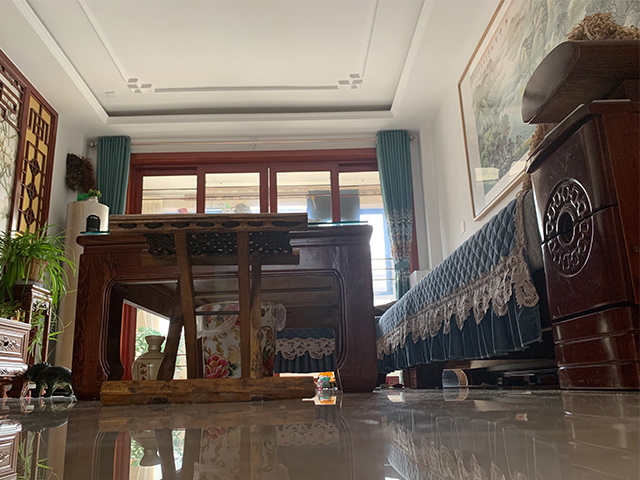curtain: (371, 127, 416, 296)
sofa: (374, 11, 640, 393)
stool: (98, 212, 318, 408)
table: (70, 220, 380, 403)
trashcan: (195, 300, 278, 380)
